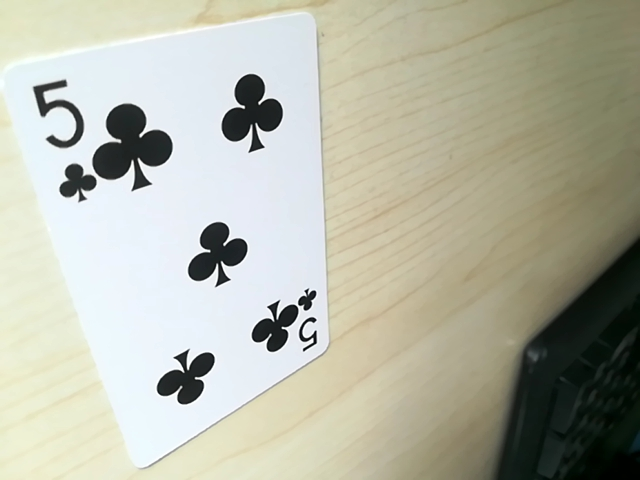mh 5: (23, 76, 99, 207), (278, 286, 324, 360)
